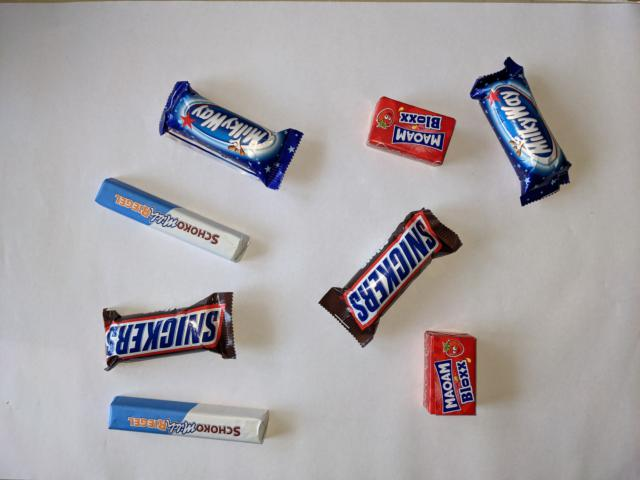MAOAM: (362, 93, 458, 169), (419, 326, 481, 419)
MilkyWay: (155, 78, 306, 192), (465, 54, 575, 209)
Schokoriegel: (91, 176, 253, 264), (104, 393, 273, 450)
Snickers: (314, 206, 465, 352), (98, 288, 240, 376)
